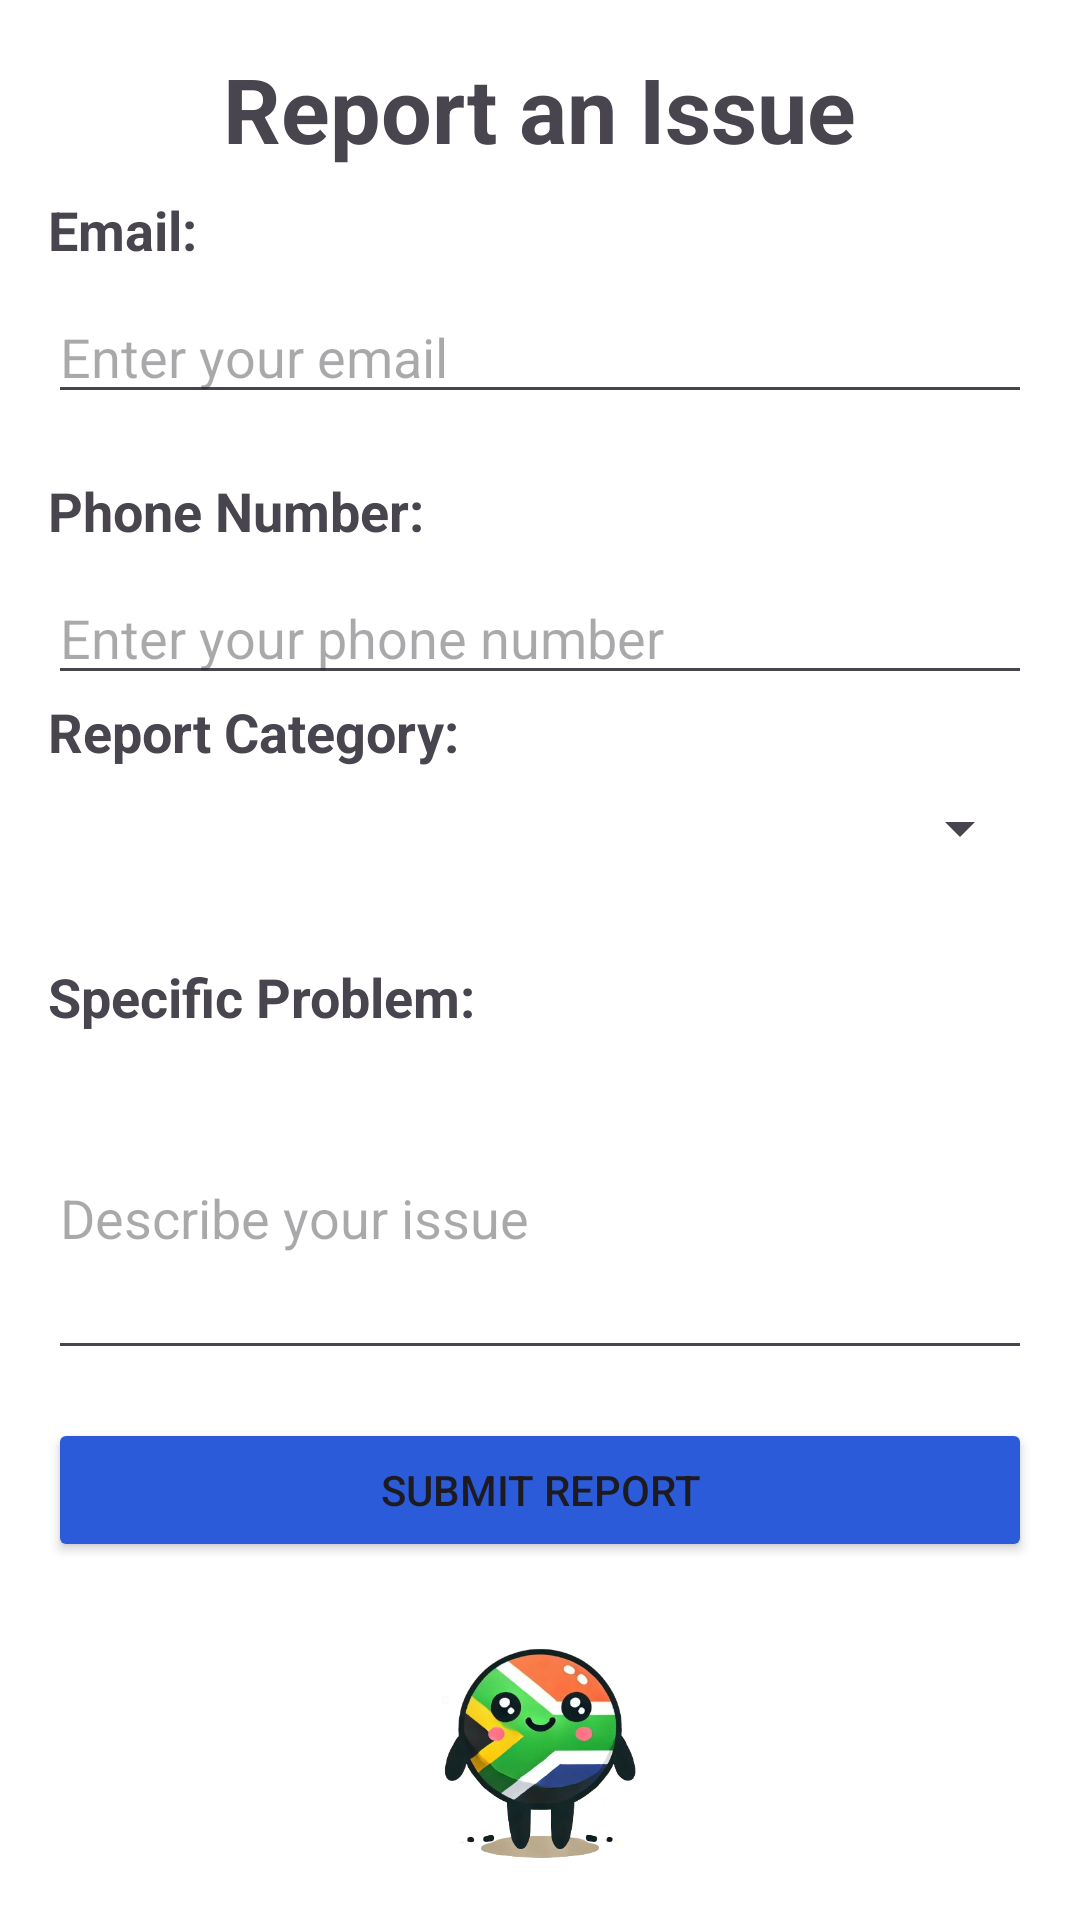

Named icons in this screenshot (1080x1920) and their centers, (x=x, y=y):
mascot: (x=540, y=1753)
